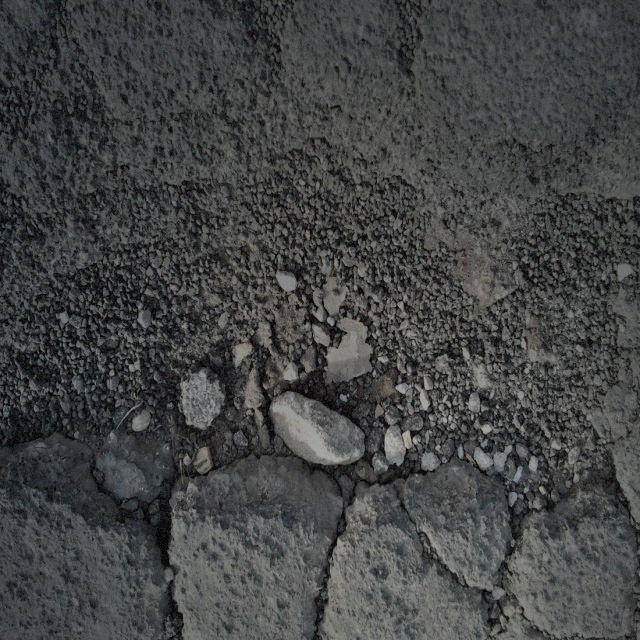pothole: (59, 130, 590, 572)
